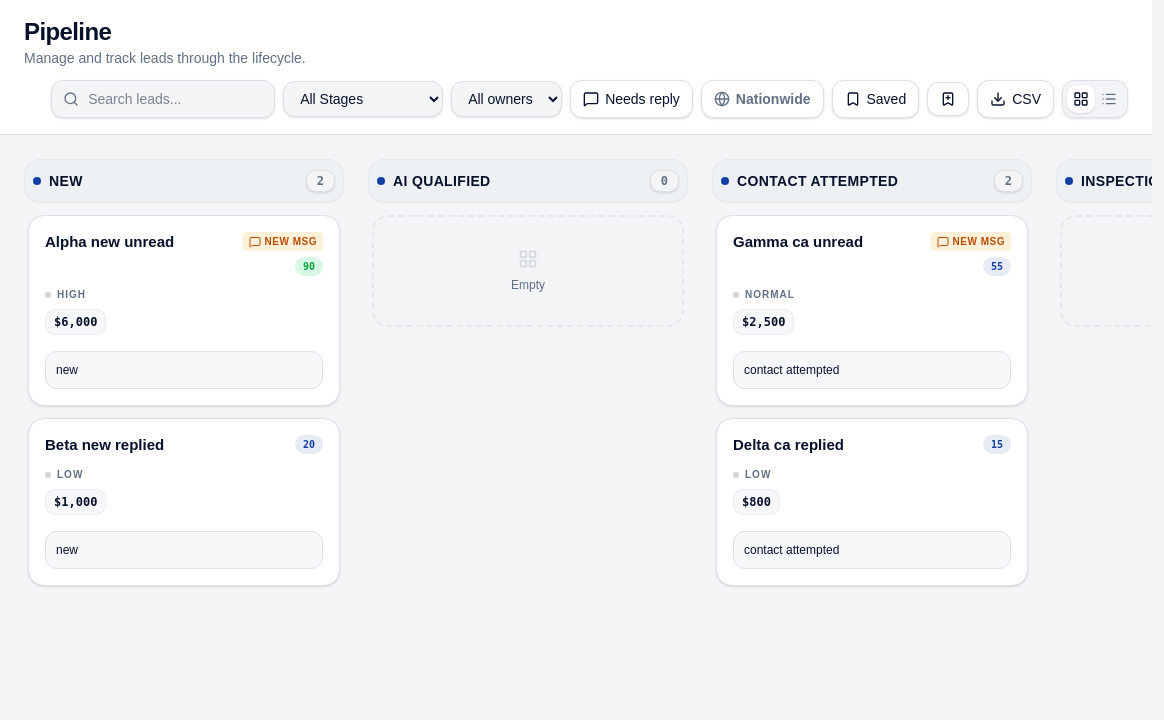
Test case: Pipeline "Needs reply" filter › stacked stage + needs-reply filters › shows only leads matching both stage and needs-reply when both filters are active
Expected: the link "Alpha new unread" is shown, 45,232 -> 174,253
Expected: the link "Beta new replied" is shown, 45,435 -> 164,456
# Apply stage filter → server now returns only the two "new" leads.
Select "new" in the dropdown below "Pipeline" at [363, 99], box 283,81 -> 443,117
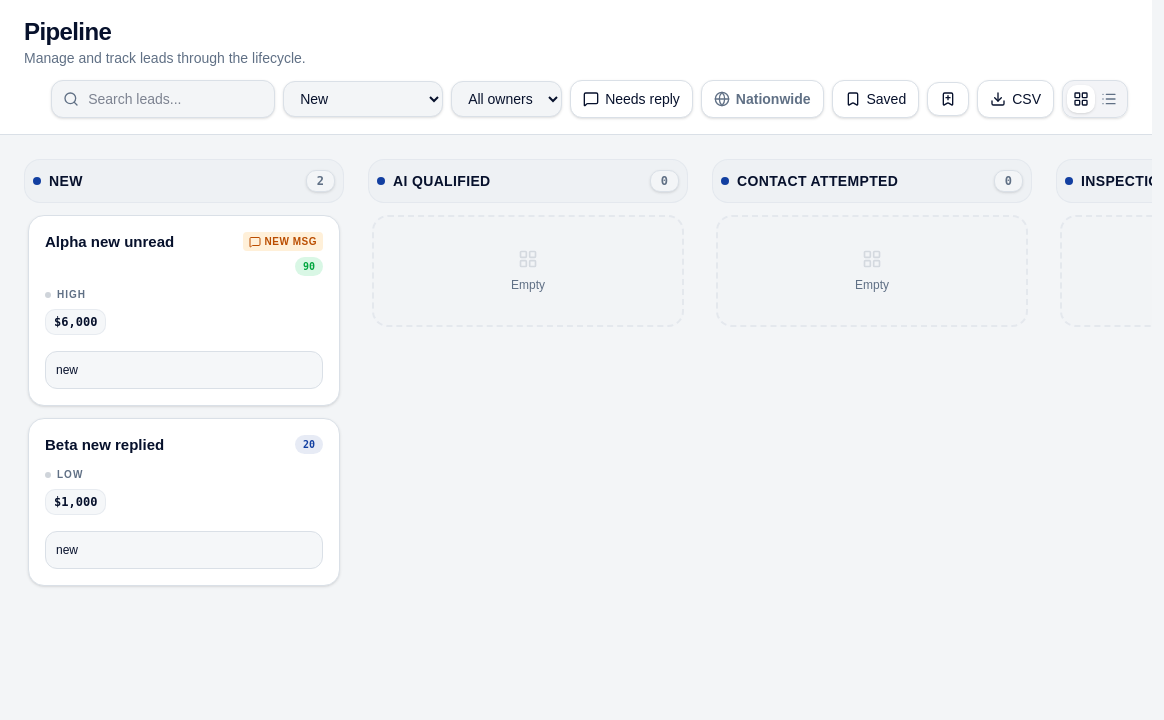
Expected: the link "Alpha new unread" is shown, 45,232 -> 174,253
Now no links "Gamma ca unread" are shown
Now no links "Delta ca replied" are shown
# Also enable needs-reply → server returns only unreadNew (alpha).
Click the button with test id "needs-reply-filter" at [631, 99], box 570,80 -> 693,118
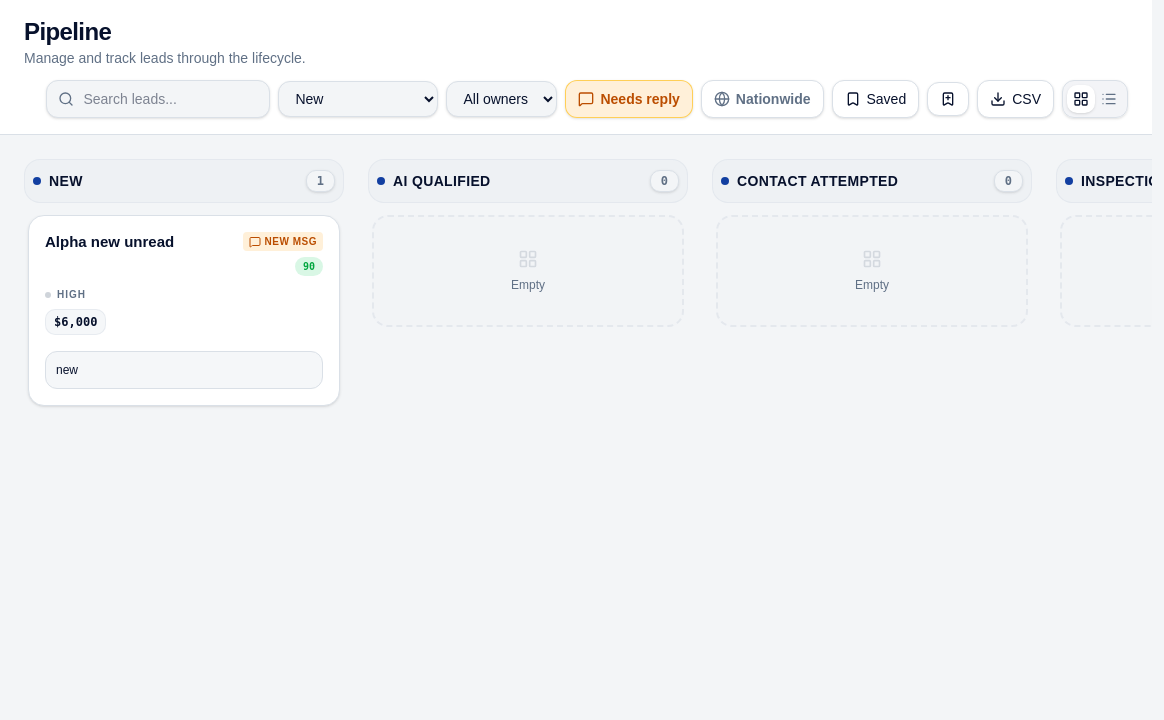
Expected: the link "Alpha new unread" is shown, 45,232 -> 174,253
Now no links "Beta new replied" are shown
